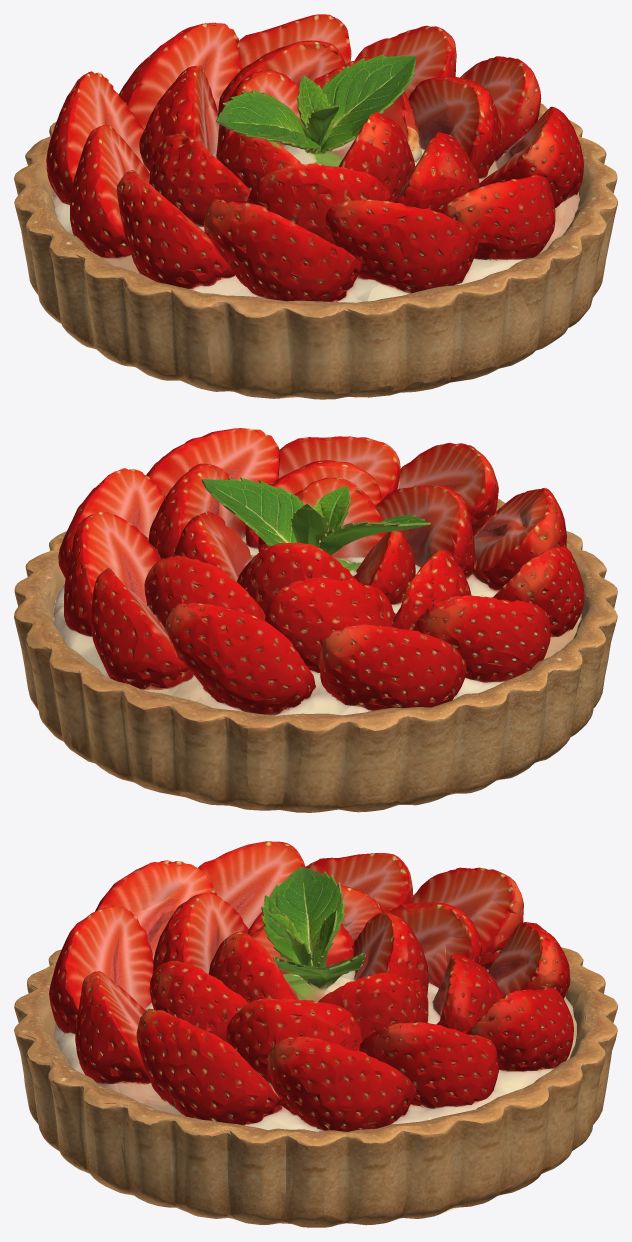
The model's file is tart.glb.
3 views of the same model, one above another, from view 1: azimuth 30°, elevation 25°; view 2: azimuth 150°, elevation 25°; view 3: azimuth 270°, elevation 25° (orthographic).
Visible parts, largest first — view 1: Mesh_0; view 2: Mesh_0; view 3: Mesh_0.
Boxes of the visible parts, x1,y1,x2,y2 form: Mesh_0: [14, 14, 617, 399]; Mesh_0: [14, 428, 617, 812]; Mesh_0: [14, 841, 617, 1227].
Size of the model in its own units: 1.9 by 0.7051 by 1.9.
Materials: 1 (1 with a texture image).
